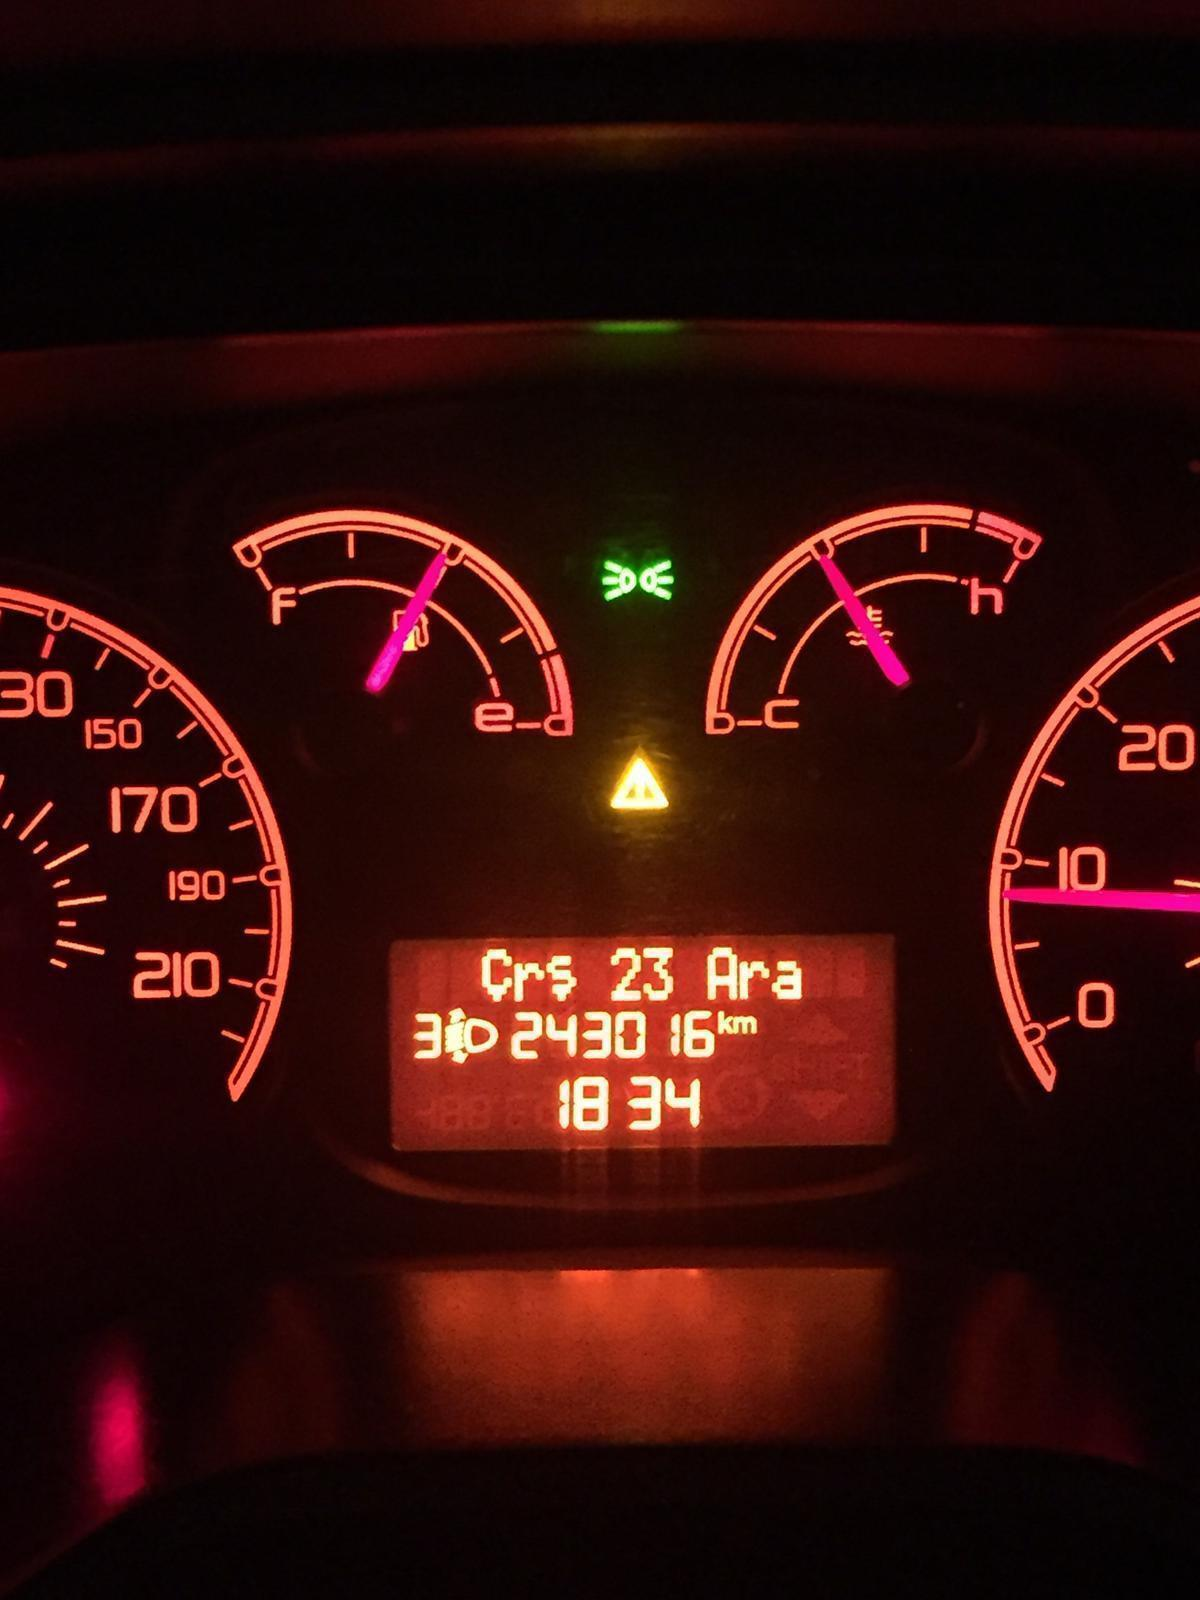0: (613, 1010, 649, 1060)
1: (556, 1073, 570, 1131), (669, 1007, 681, 1065)
2: (509, 1010, 542, 1065), (610, 947, 642, 1003)
3: (625, 1072, 661, 1133), (642, 944, 677, 1003), (581, 1008, 613, 1061), (413, 1010, 442, 1060)
4: (663, 1071, 703, 1129), (545, 1009, 579, 1058)
6: (683, 1007, 713, 1060)
8: (574, 1073, 610, 1133)
X: (705, 944, 739, 1002), (480, 947, 509, 1002), (546, 952, 579, 1000), (774, 957, 805, 1002), (737, 957, 770, 999), (516, 960, 545, 1003), (734, 1014, 759, 1036), (717, 1010, 734, 1036)
odometer: (378, 923, 911, 1160)
